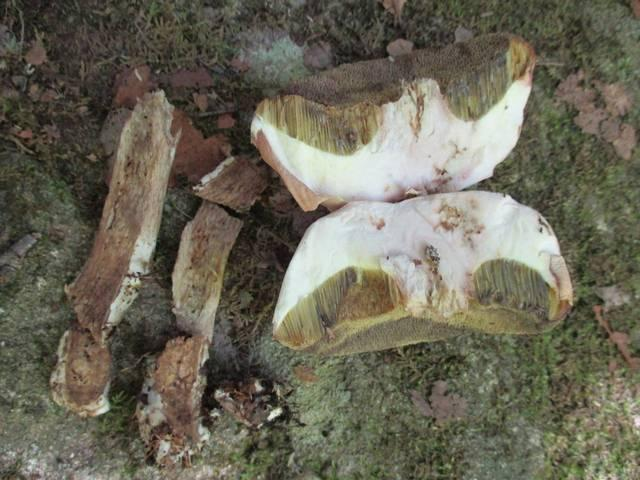edible_mushroom: (248, 30, 536, 212), (270, 188, 574, 358)
